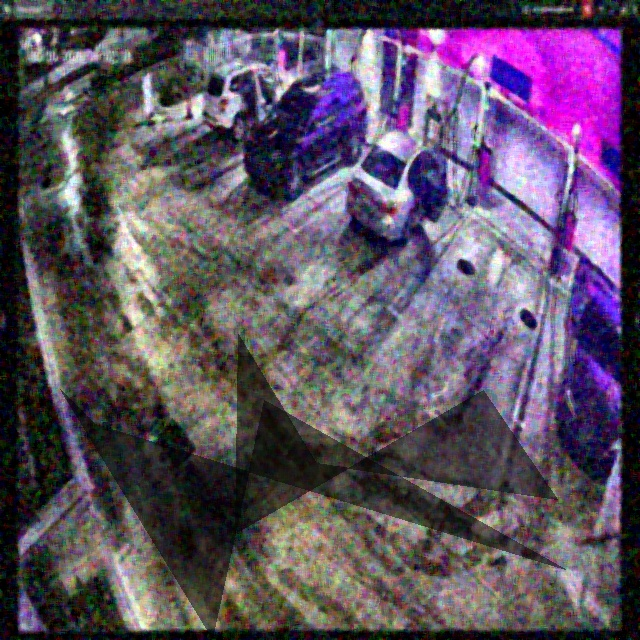Car: (249, 70, 368, 198), (346, 129, 448, 249)
